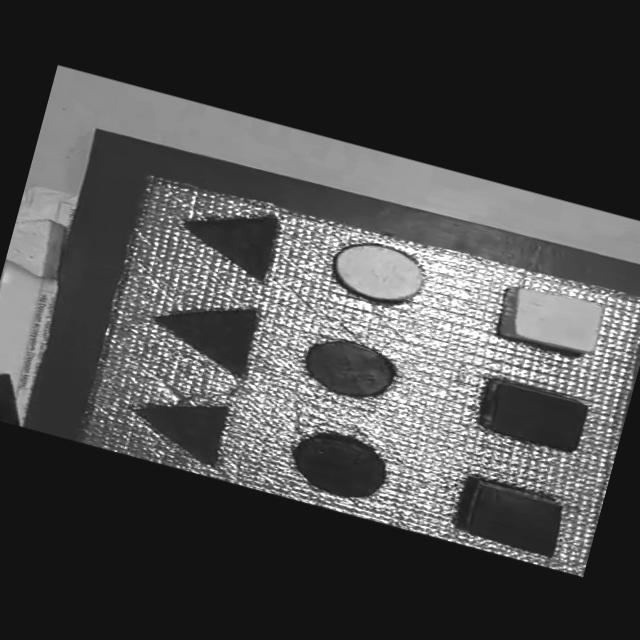bcircle: (284, 424, 394, 506)
bcube: (454, 474, 570, 558)
mttriangle: (143, 284, 265, 379), (173, 192, 287, 284), (120, 380, 234, 469)
rcircle: (294, 327, 408, 408)
rcube: (475, 375, 593, 456)
wb: (70, 163, 640, 574)
ycircle: (326, 233, 429, 310)
ycube: (494, 278, 608, 362)
ytriangle: (3, 211, 71, 282)
